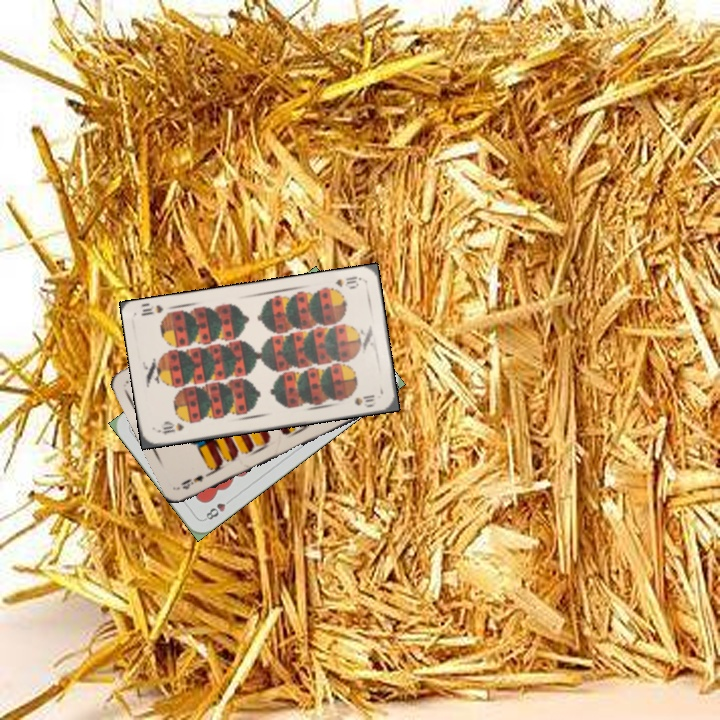E9: (177, 468, 214, 492)
H8: (200, 494, 235, 523)
S10: (332, 272, 363, 291), (154, 419, 186, 437)
